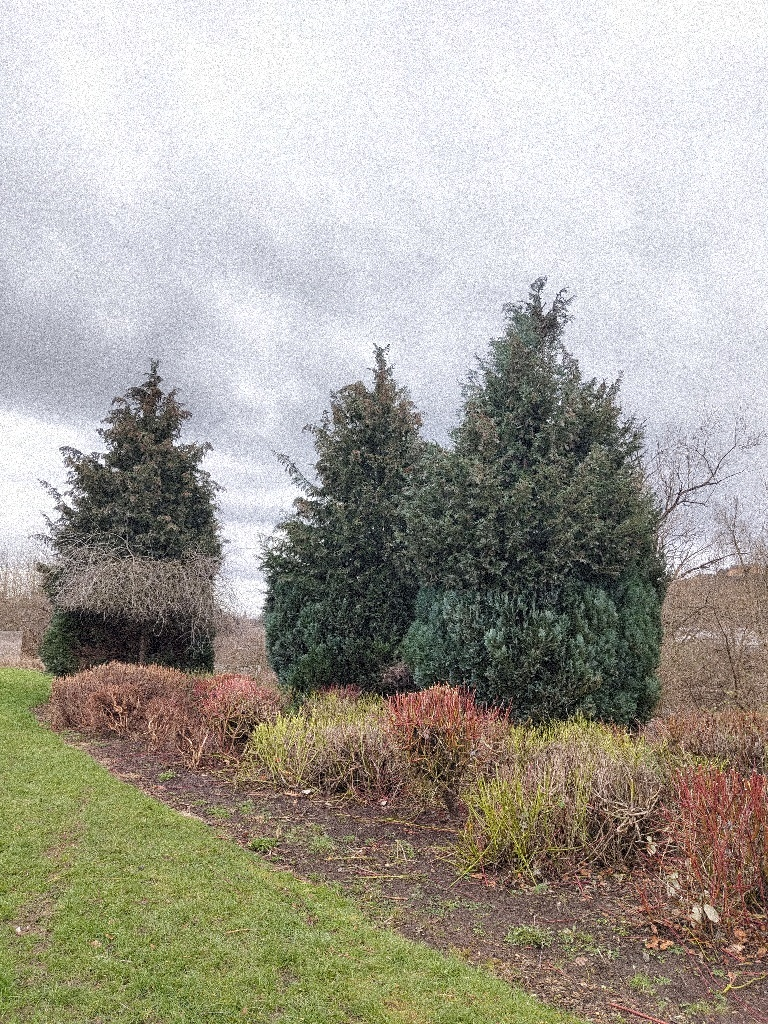Tree: (419, 267, 675, 745), (23, 353, 237, 685), (254, 337, 446, 703)
